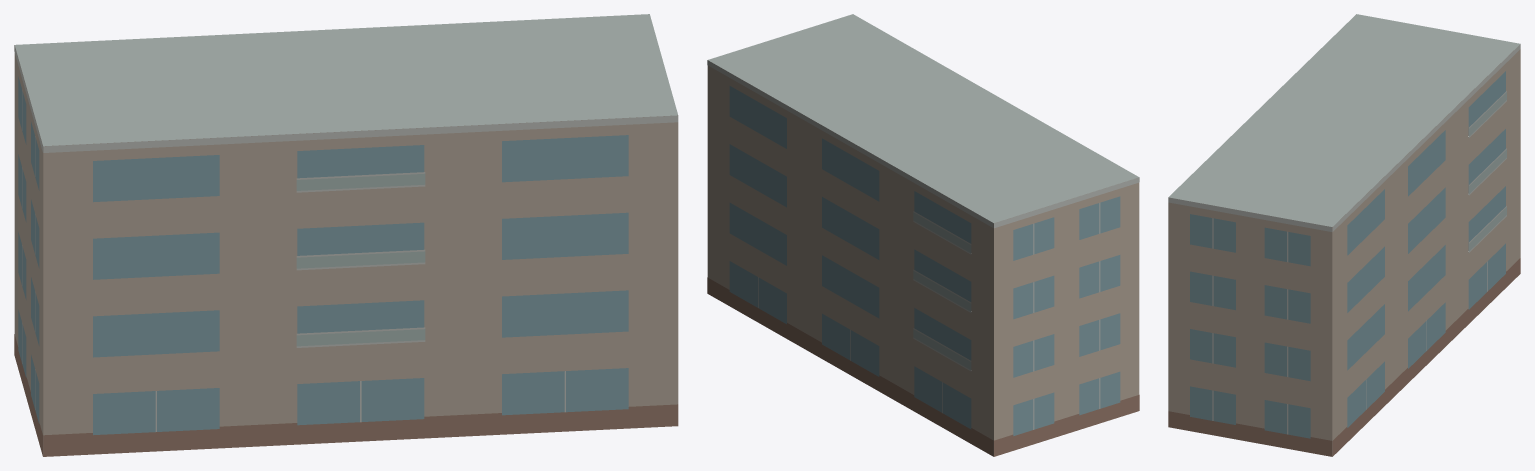
Rendered from survey-upis-33035154.glb.
3 renders of one model, left to right at view 1: azimuth 30°, elevation 25°; view 2: azimuth 150°, elevation 25°; view 3: azimuth 270°, elevation 25°, orthographic. The views are drawn at different scales.
Visible parts, largest first — view 1: survey-upis-33035154.tmp; view 2: survey-upis-33035154.tmp; view 3: survey-upis-33035154.tmp.
Boxes of the visible parts, x1,y1,x2,y2 form: survey-upis-33035154.tmp: [14, 14, 678, 456]; survey-upis-33035154.tmp: [707, 14, 1139, 456]; survey-upis-33035154.tmp: [1168, 14, 1520, 456].
Bounding box in the file's own units: 21.89 × 11 × 15.3.
